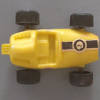amarillo_este: (2, 10, 98, 87)
